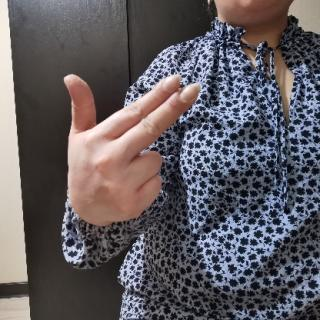GHAYN: (61, 65, 205, 228)
